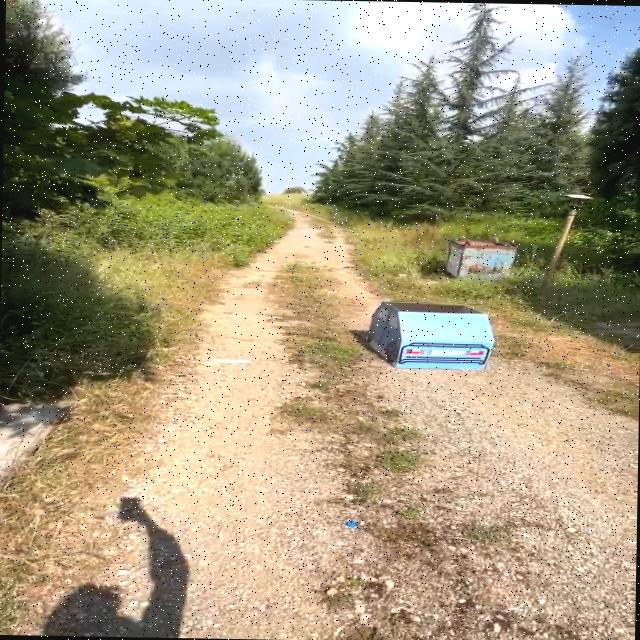blue_car: (356, 291, 510, 385)
